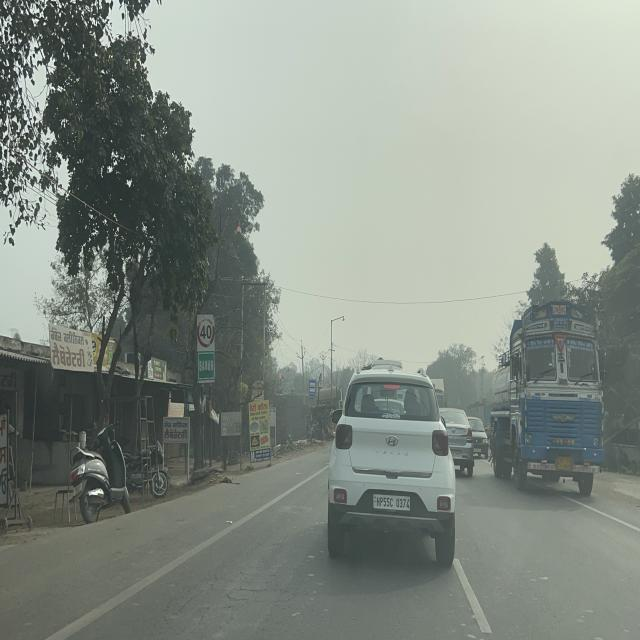GENERAL: (197, 352, 215, 381)
INFORMATION: (308, 380, 316, 398)
SPEED_LIMIT_40: (197, 317, 215, 348)
STAGGERED_INTERSECTION: (318, 373, 322, 389)
